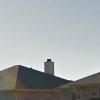Chimney: (40, 45, 52, 80)
